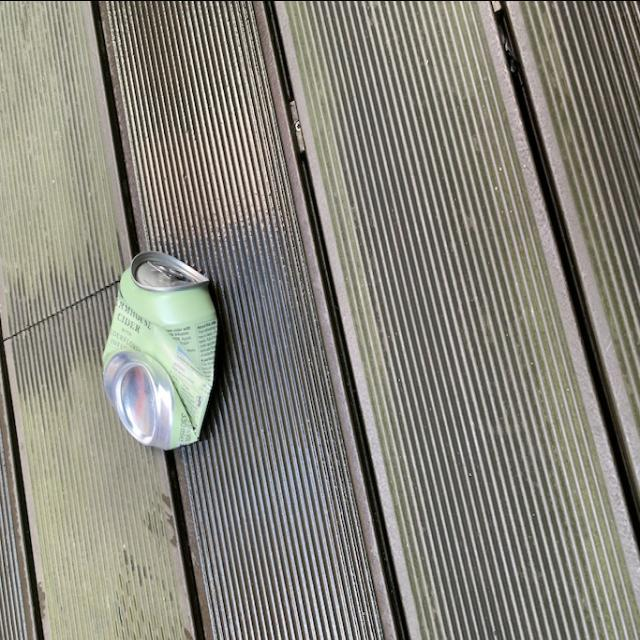litter: (104, 253, 220, 452)
